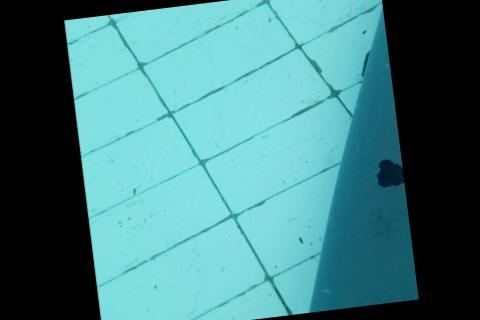kebocoran: (371, 156, 405, 190)
